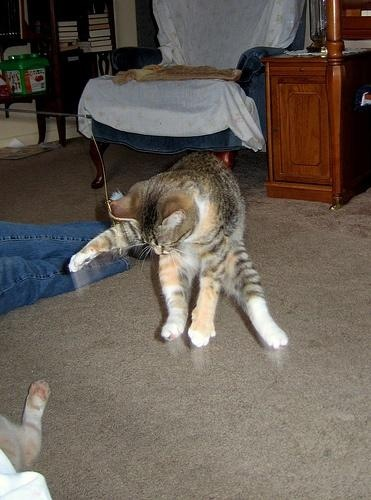cat: (73, 151, 289, 349)
chair: (82, 1, 310, 189)
